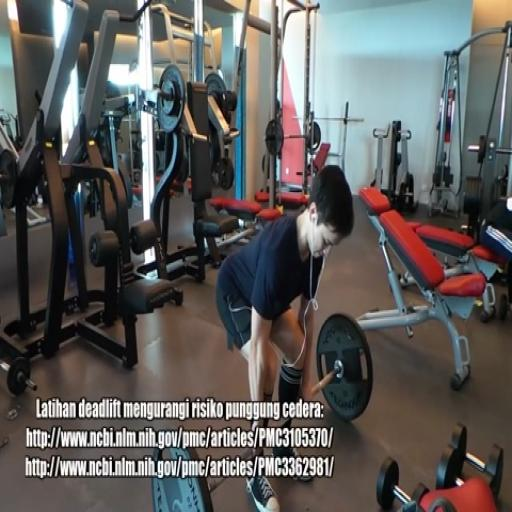exercise: (212, 162, 356, 511)
